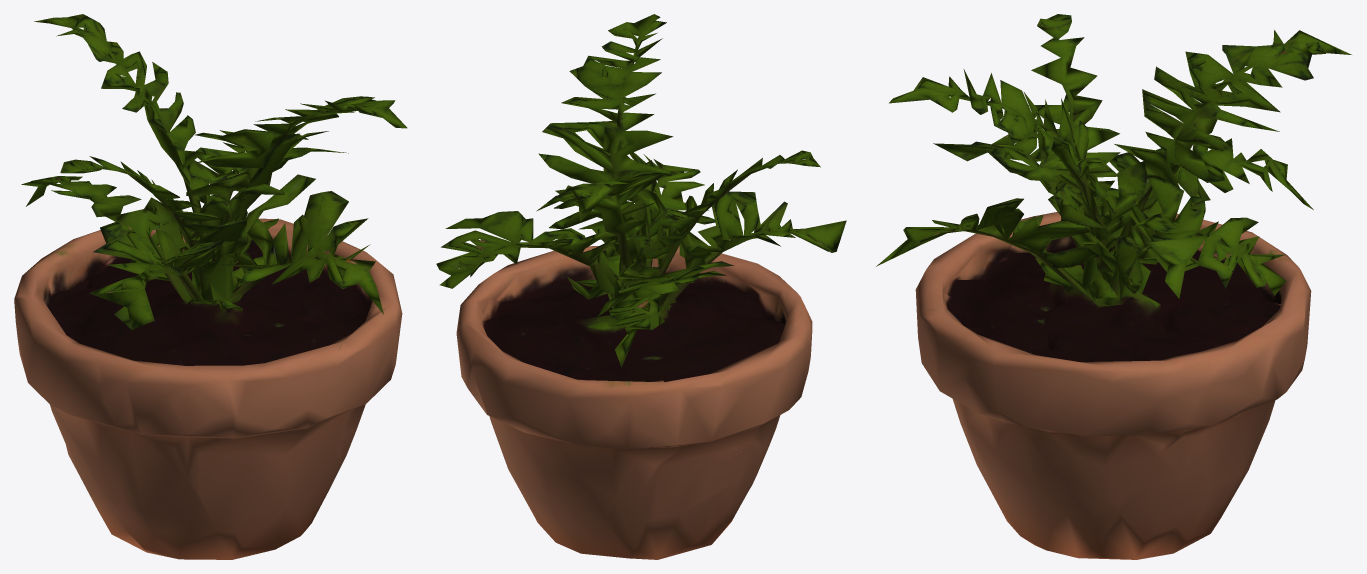
The model's file is fern-pot.glb.
The picture shows the model from 3 angles, left to right: view 1: azimuth 30°, elevation 25°; view 2: azimuth 150°, elevation 25°; view 3: azimuth 270°, elevation 25°; orthographic projection. The views are drawn at different scales.
Parts seen in each view (by area): view 1: tripo_node_4486ed20-a7a4-4092-b8f0-f8a74cfb83c6.001; view 2: tripo_node_4486ed20-a7a4-4092-b8f0-f8a74cfb83c6.001; view 3: tripo_node_4486ed20-a7a4-4092-b8f0-f8a74cfb83c6.001.
Part boxes in pixels (bbox=[...]): tripo_node_4486ed20-a7a4-4092-b8f0-f8a74cfb83c6.001: bbox=[14, 14, 407, 559]; tripo_node_4486ed20-a7a4-4092-b8f0-f8a74cfb83c6.001: bbox=[436, 14, 846, 559]; tripo_node_4486ed20-a7a4-4092-b8f0-f8a74cfb83c6.001: bbox=[876, 14, 1351, 559].
Bounding box in the file's own units: 0.6039 × 0.7604 × 0.7.
1 material, 1 textured.
